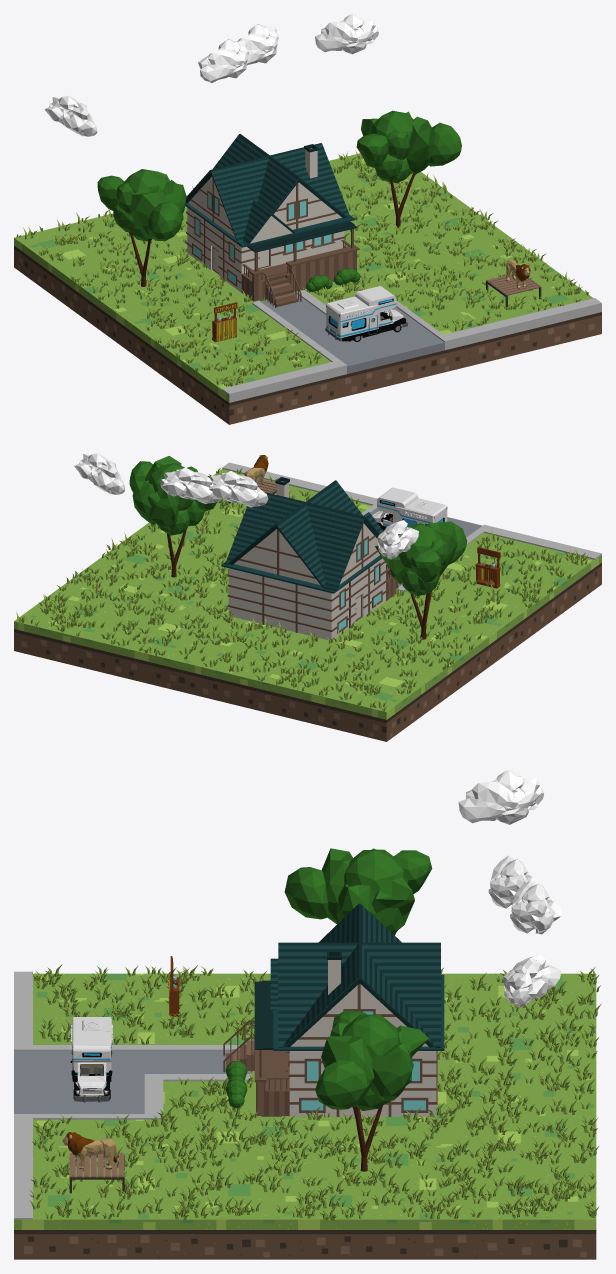
3 views of the same model, one above another, from view 1: azimuth 30°, elevation 25°; view 2: azimuth 150°, elevation 25°; view 3: azimuth 270°, elevation 25° (orthographic). The views are drawn at different scales.
Visible parts, largest first — view 1: Cube.006, Cube.793, Circle.012_Grass_0.192, Cube.007, tree, tree.001, VEHICLES_CAMPER, OBJRANDOM_LEMONADE_STAND, Cube.009; view 2: Cube.006, Cube.793, Circle.012_Grass_0.192, Cube.007, tree.001, tree, VEHICLES_CAMPER, OBJRANDOM_LEMONADE_STAND, ANIMAL_LEON; view 3: Cube.006, Circle.012_Grass_0.192, Cube.793, tree, Cube.007, tree.001, VEHICLES_CAMPER, Cube.009, ANIMAL_LEON.
Part boxes in pixels (x1,y1,x2,y2): Cube.006: (14,153,601,424); Cube.793: (185,134,359,307); Circle.012_Grass_0.192: (16,150,588,386); Cube.007: (44,14,378,136); tree: (356,110,461,228); tree.001: (97,169,186,286); VEHICLES_CAMPER: (325,286,407,341); OBJRANDOM_LEMONADE_STAND: (212,302,237,342); Cube.009: (486,274,541,306); Cube.006: (14,462,601,741); Cube.793: (221,477,398,640); Circle.012_Grass_0.192: (16,468,588,711); Cube.007: (74,453,418,559); tree.001: (375,521,467,639); tree: (129,456,216,577); VEHICLES_CAMPER: (372,487,447,530); OBJRANDOM_LEMONADE_STAND: (475,547,500,588); ANIMAL_LEON: (244,455,268,484); Cube.006: (14,971,596,1259); Circle.012_Grass_0.192: (29,964,601,1220); Cube.793: (223,903,444,1116); tree: (315,1010,428,1171); Cube.007: (458,770,561,1007); tree.001: (284,848,432,935); VEHICLES_CAMPER: (70,1017,112,1102); Cube.009: (69,1153,124,1193); ANIMAL_LEON: (62,1131,117,1169).
Bounding box in the file's own units: 4071 × 2176 × 4040.
Materials: 39 (4 with a texture image).
